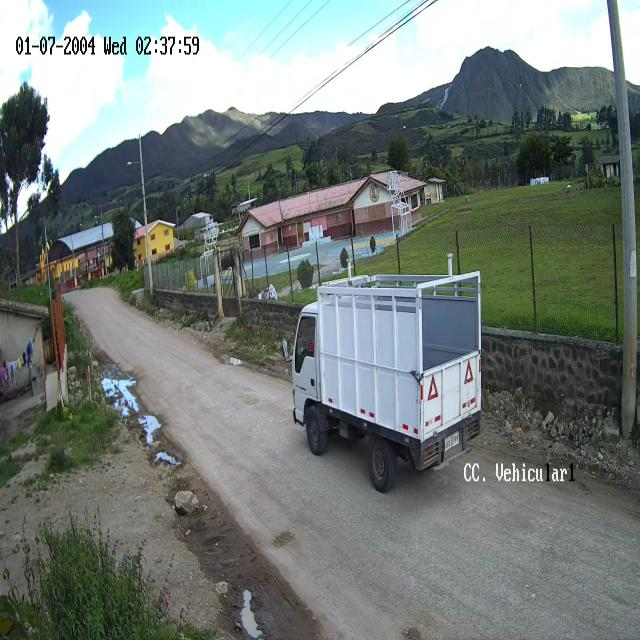TRUCK: (288, 273, 483, 494)
